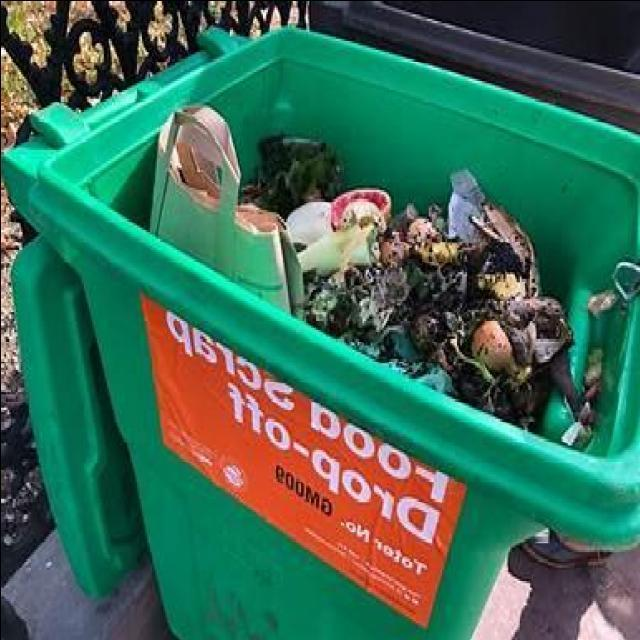Garbage: (75, 72, 615, 471)
Plastic: (447, 168, 484, 243)
Plastic_Bag: (149, 104, 301, 314), (239, 136, 342, 217), (285, 199, 331, 245)
